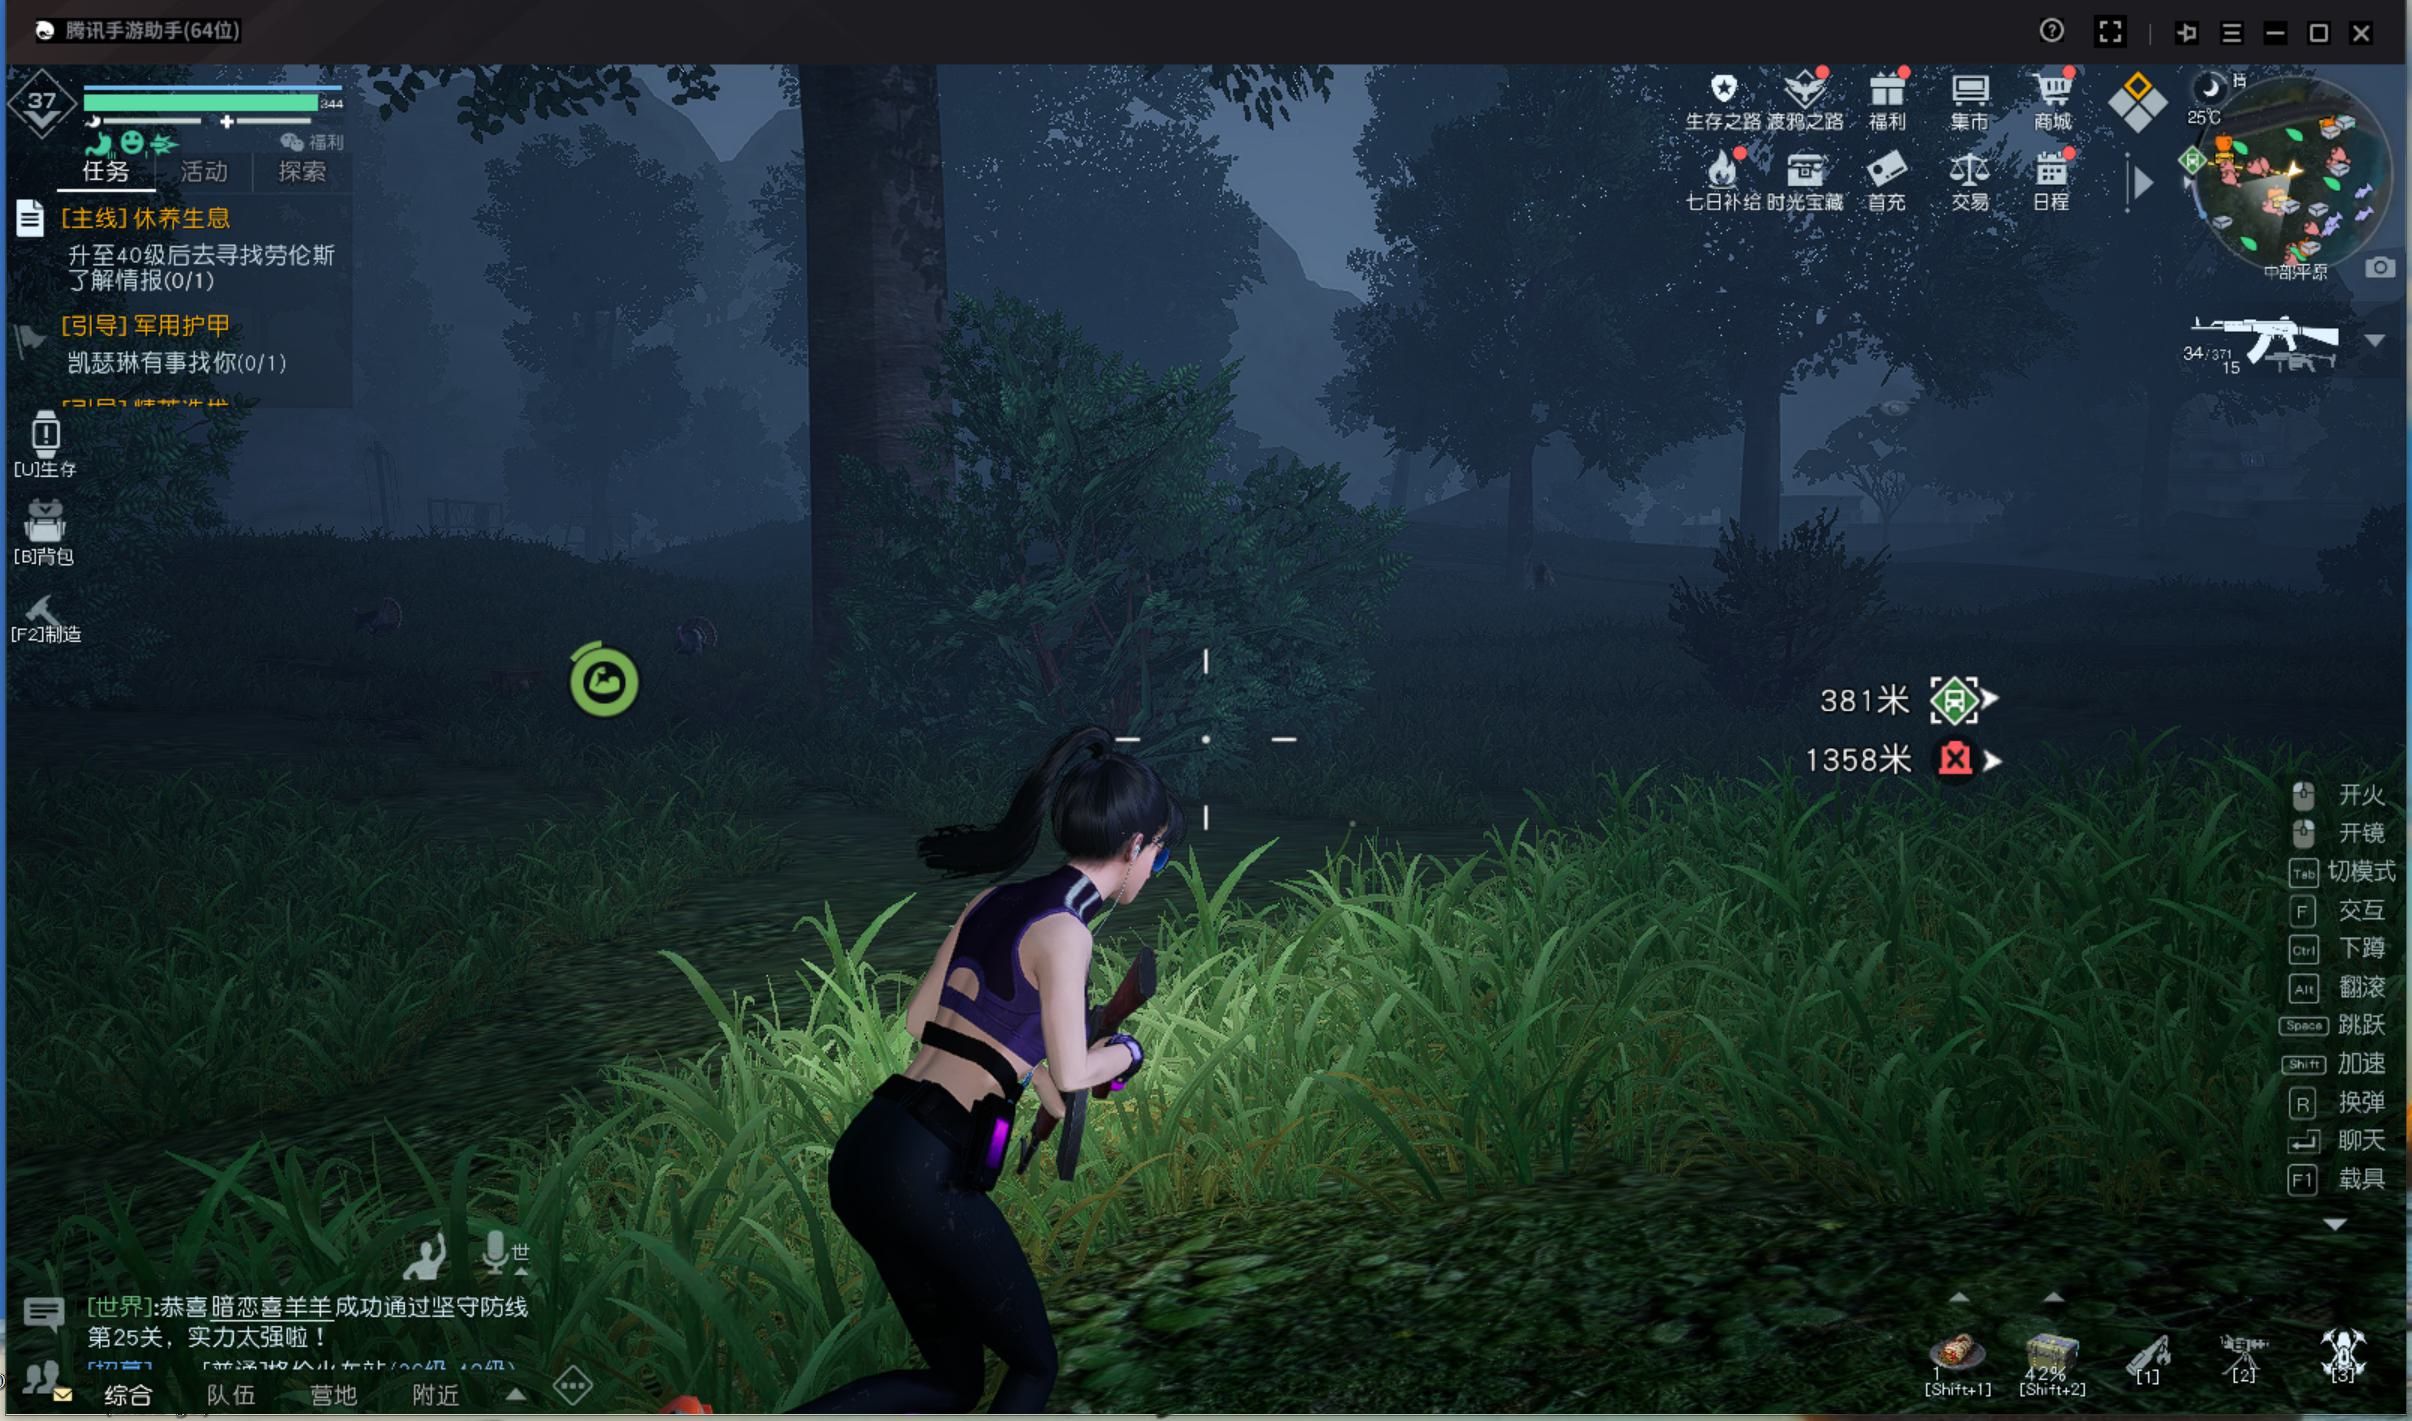tree: (785, 122, 984, 787), (1722, 337, 1788, 599), (1499, 404, 1549, 573)
